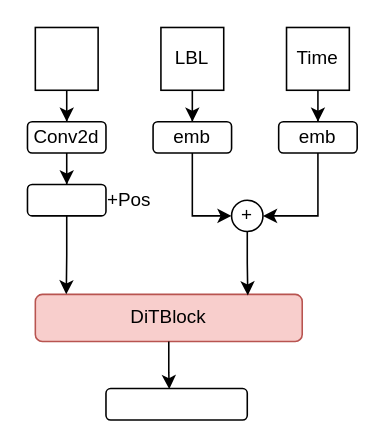
Image size: 385x447. Some labels were removed from this diagram. The shapes that lost their labels are listed below. From the top down, each one's centre as x and y in pixels, then its label:
At pixel 66 58: "IMG".
At pixel 66 199: "Linear".
At pixel 175 403: "LN + Linear".
